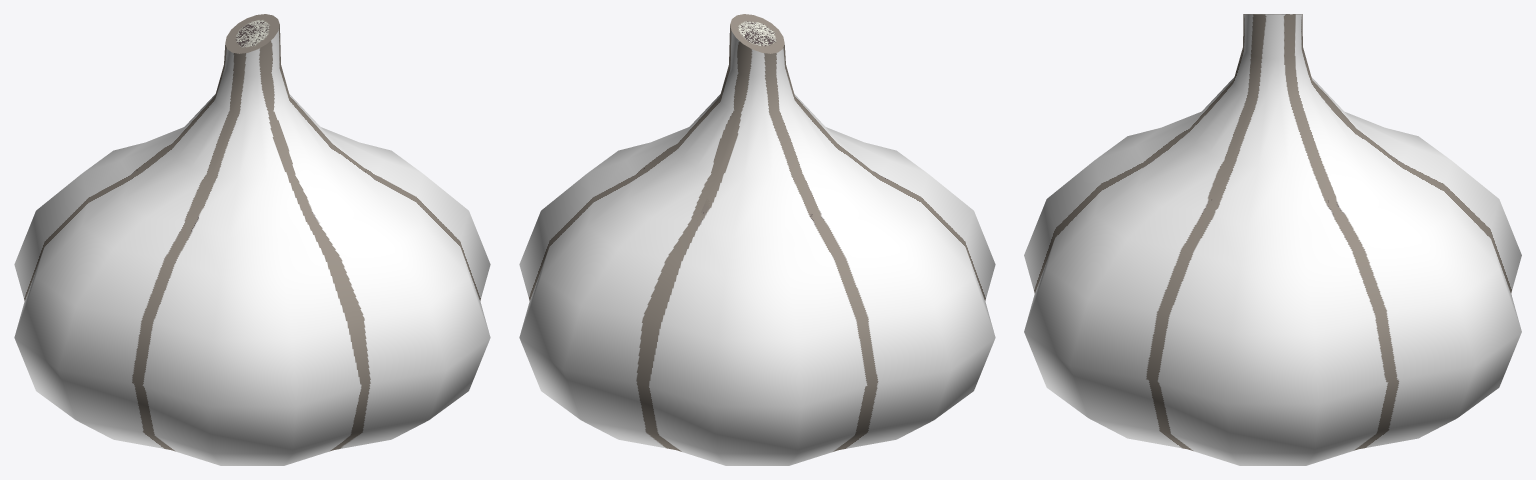
The model's file is cesnek.fbx.
3 renders of one model, left to right at view 1: azimuth 30°, elevation 25°; view 2: azimuth 150°, elevation 25°; view 3: azimuth 270°, elevation 25°, orthographic. The views are drawn at different scales.
Parts seen in each view (by area): view 1: SM_tsesnekch; view 2: SM_tsesnekch; view 3: SM_tsesnekch.
Part boxes in pixels (bbox=[...]): SM_tsesnekch: bbox=[14, 14, 490, 465]; SM_tsesnekch: bbox=[519, 14, 995, 465]; SM_tsesnekch: bbox=[1024, 14, 1521, 465].
Bounding box in the file's own units: 589 × 562 × 530.
1 material, 1 textured.
